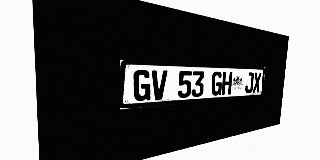3: (191, 71, 204, 97)
5: (178, 71, 192, 98)
G: (133, 70, 151, 102), (211, 71, 223, 96)
H: (221, 72, 232, 95)
J: (245, 72, 254, 93)
V: (151, 70, 167, 100)
X: (253, 72, 261, 93)
